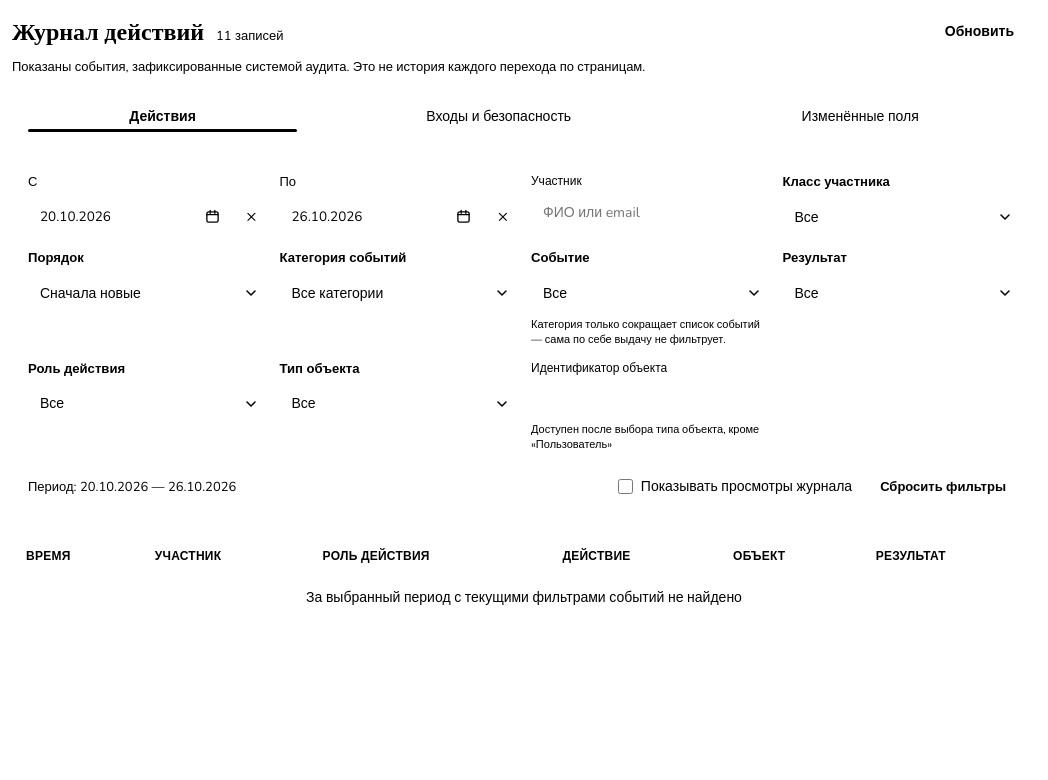
Test: способ входа (Stage Social Auth 3B) › фильтр есть только на «Входах» и уходит в запрос auth_log
Expected: the table is shown, [12,536,1036,619]
Expected: the button "Способ входа" is not shown
Click the tab "Входы и безопасность".
click(499, 117)  # box [313,99,684,135]
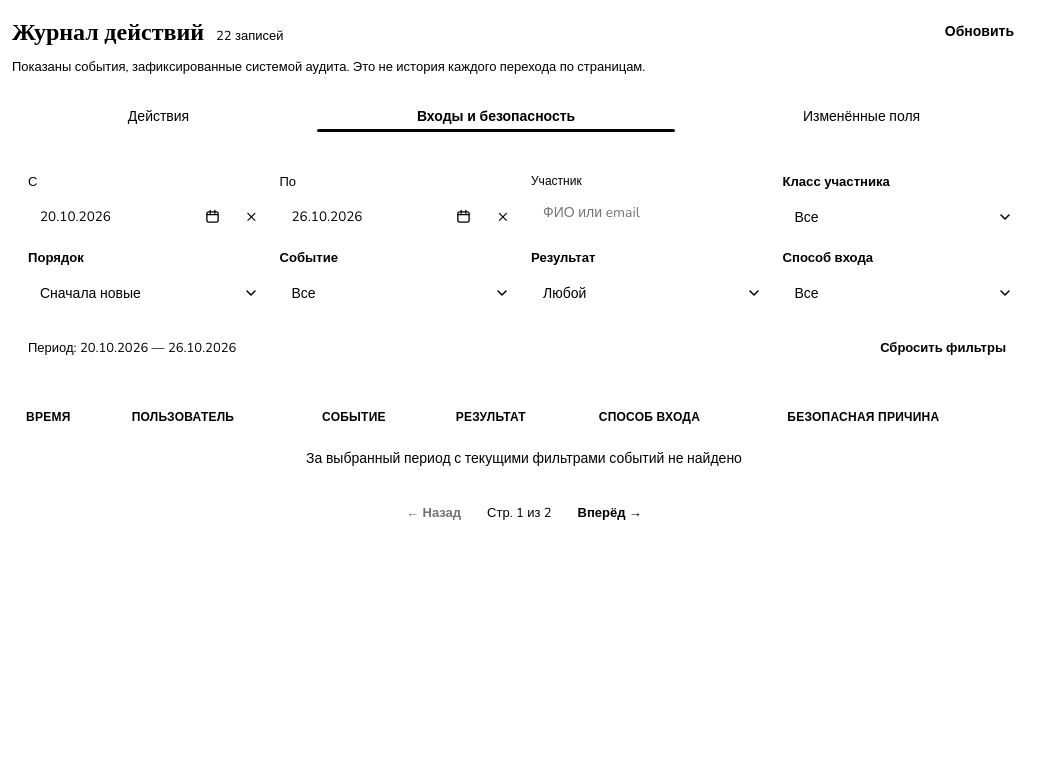
Click the button named "Способ входа".
click(901, 293)  # box [782,273,1020,313]
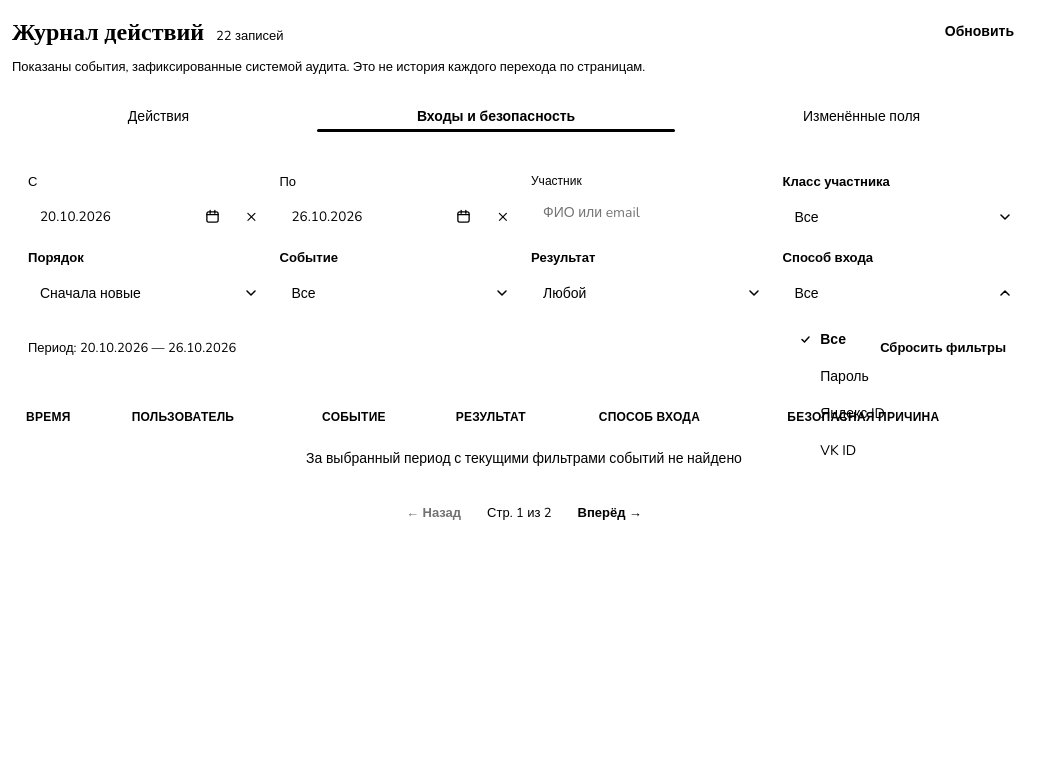
Result: the option "Пароль" is shown at [820,367,869,386]
Result: the option "VK ID" is shown at [820,441,856,460]
Press the mouse on the option "Яндекс ID" at [853, 414], box [820,404,885,423]
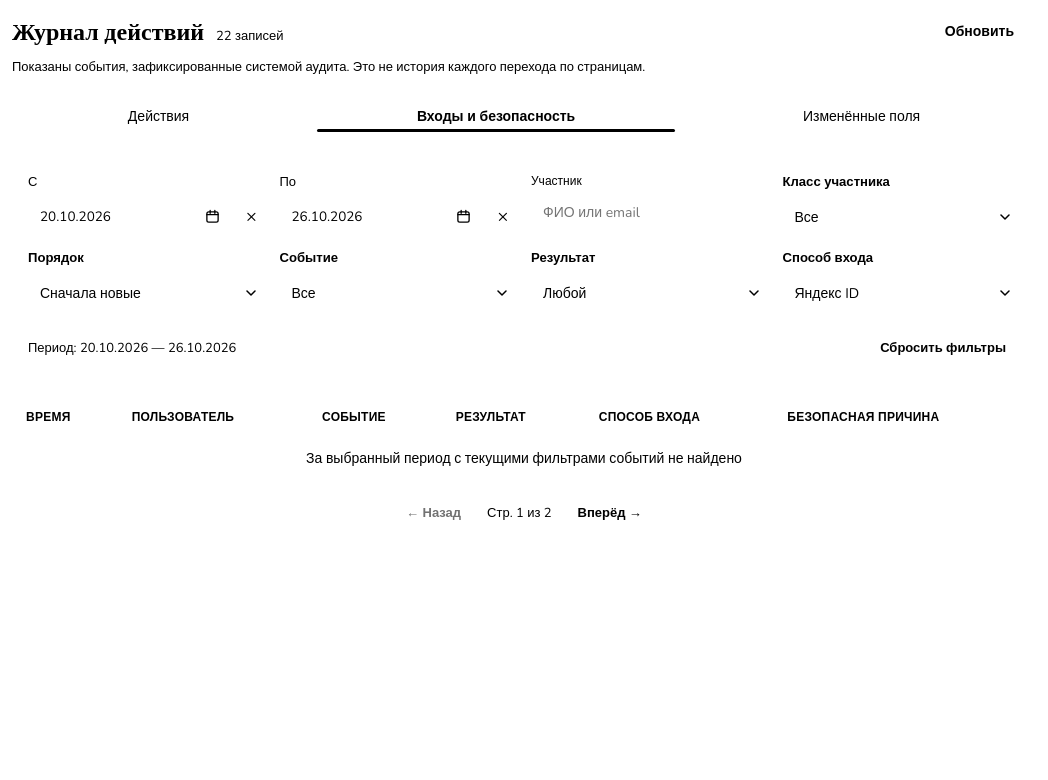
Click the tab "Действия".
click(159, 117)  # box [16,99,301,135]
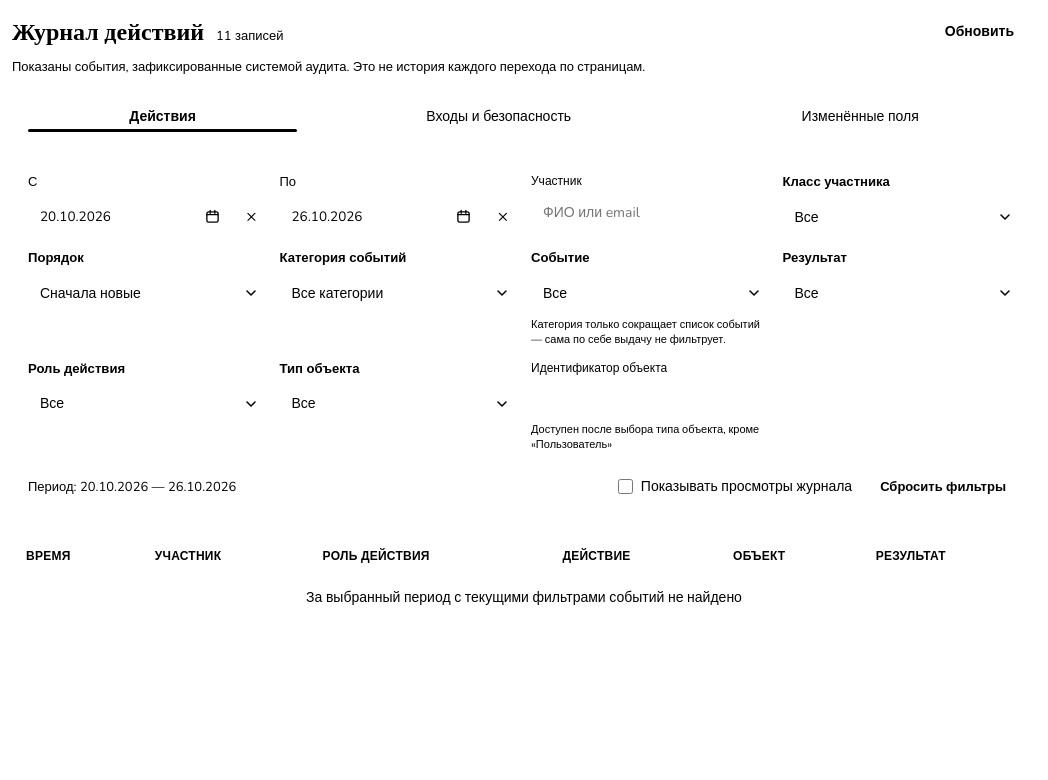
Result: the text "Способ входа" is gone
